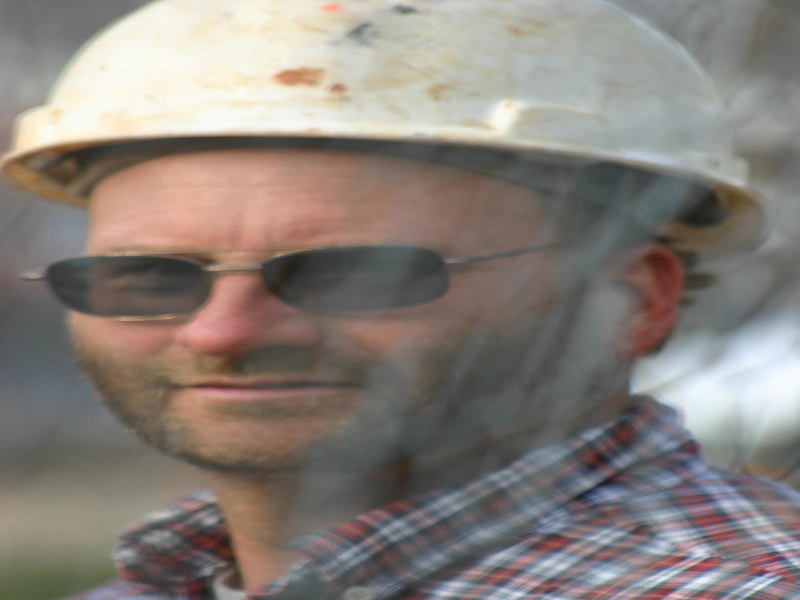Baret: (15, 1, 773, 240)
